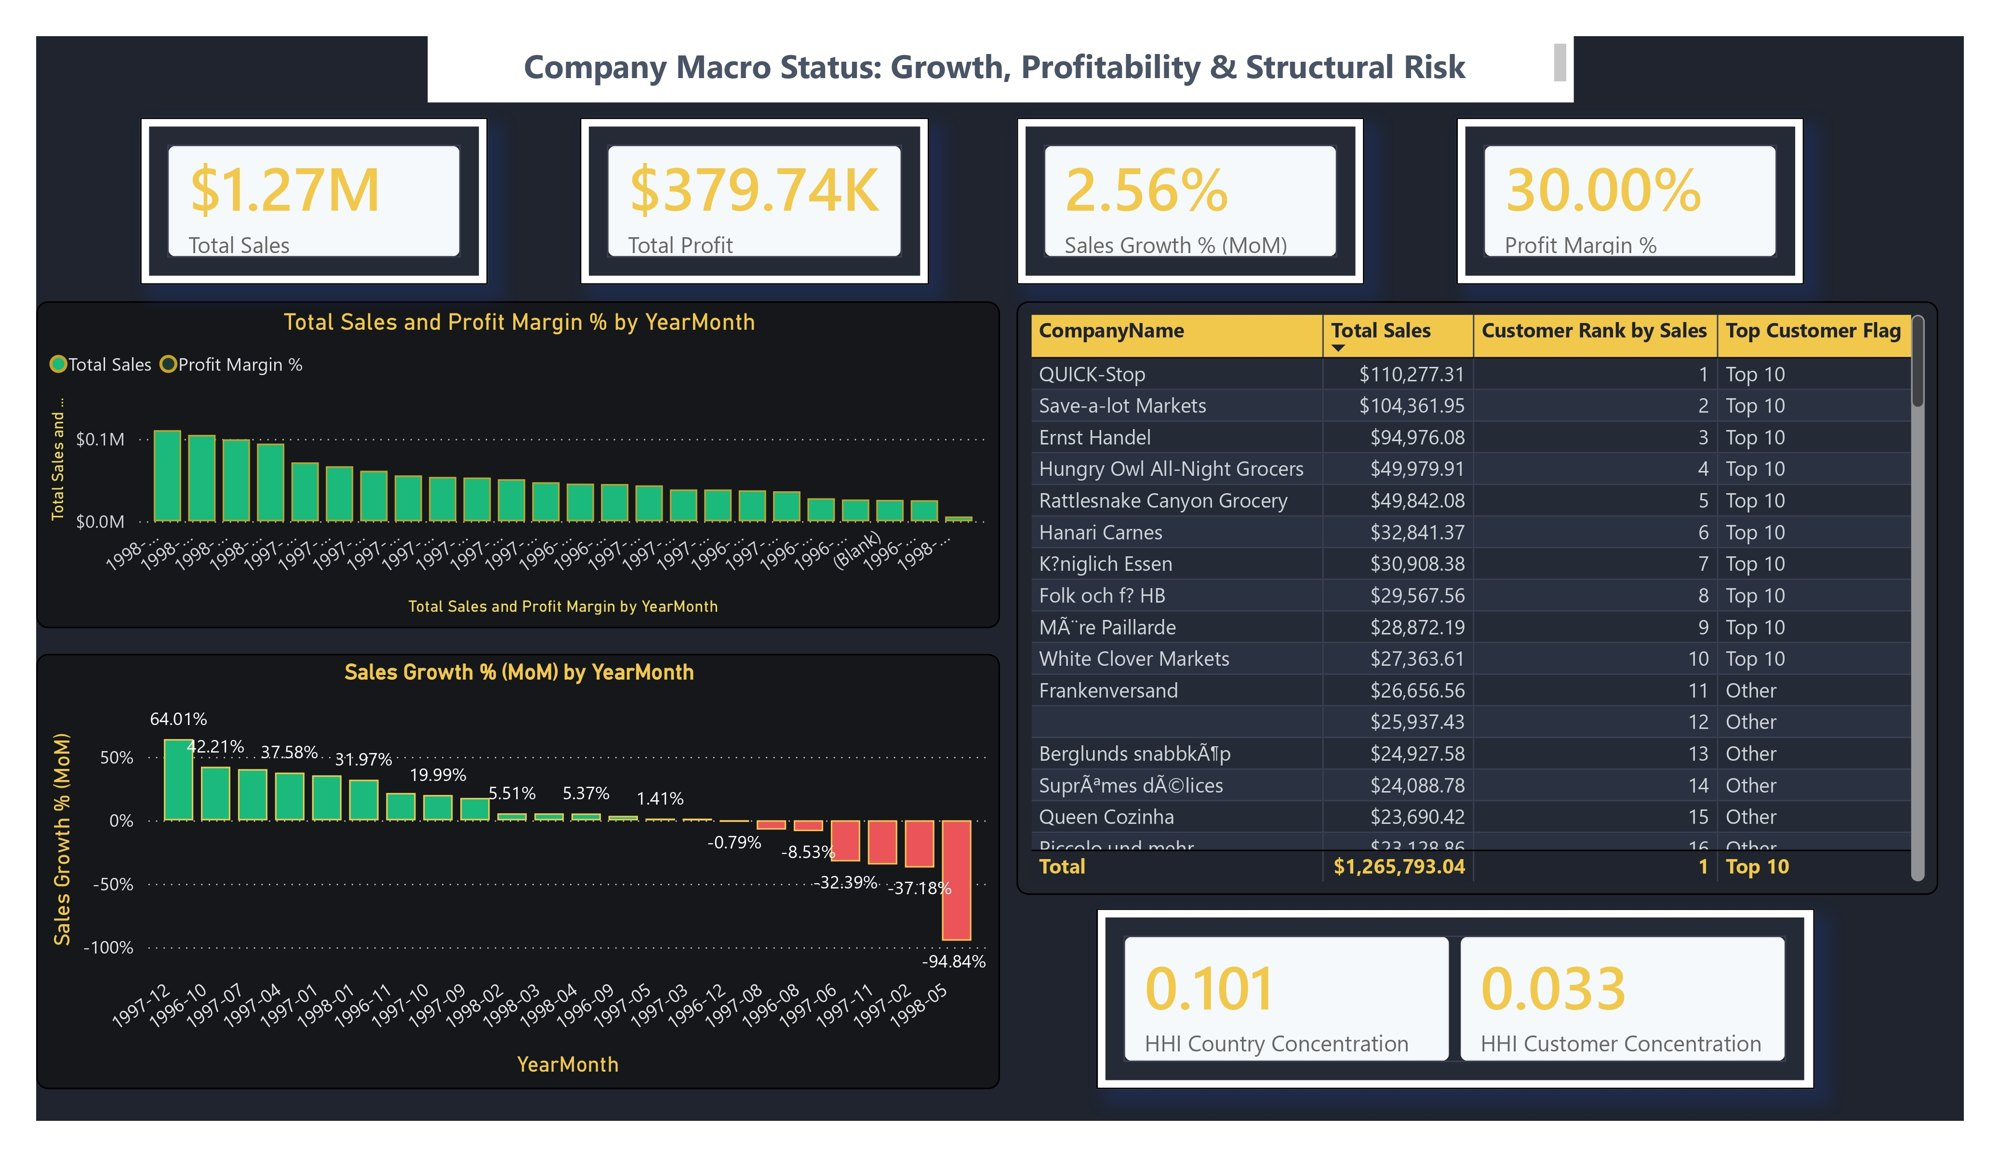

The page's visual inventory and layout, read from the dashboard file:
{"tool":"powerbi","page":{"name":"Company Overview_01","canvas":[1280,720],"ordinal":0},"visuals":[{"type":"textbox","box":[260,0,761.2,43.8],"z":0},{"type":"cardVisual","fields":{"Data":["_Measures.Total Profit"]},"box":[361.2,53.8,231.2,111.2],"z":1000},{"type":"columnChart","fields":{"Category":["DimDate.YearMonth"],"Y":["_Measures.Sales Growth % (MoM)"]},"box":[0,410,640,288.8],"z":2000},{"type":"lineStackedColumnComboChart","fields":{"Category":["DimDate.YearMonth"],"Y":["_Measures.Total Sales","_Measures.Profit Margin %"]},"box":[0,176.2,640,216.2],"z":3000},{"type":"tableEx","fields":{"Values":["DimCustomer.CompanyName","_Measures.Total Sales","_Measures.Customer Rank by Sales","_Measures.Top Customer Flag"]},"box":[651.2,176.2,611.2,393.8],"z":4000},{"type":"cardVisual","fields":{"Data":["_Measures.Total Sales"]},"box":[68.8,53.8,231,111.2],"z":5000},{"type":"cardVisual","fields":{"Data":["_Measures.Sales Growth % (MoM)"]},"box":[651.2,53.8,231,111.2],"z":6000},{"type":"cardVisual","fields":{"Data":["_Measures.Profit Margin %"]},"box":[942.5,53.8,231,111.2],"z":7000},{"type":"cardVisual","fields":{"Data":["_Measures.HHI Country Concentration","_Measures.HHI Customer Concentration"]},"box":[704.3,578.6,477.1,120],"z":8000}]}

Visuals, with their boxes in screenshot pixels (x1, y1, x2, y2), scaled from the page's 1280x720 canvas onto the 2000x1157 screenshot:
textbox: <region>406, 0, 1596, 70</region>
cardVisual - _Measures.Total Profit: <region>564, 86, 926, 265</region>
columnChart - DimDate.YearMonth x _Measures.Sales Growth % (MoM): <region>0, 659, 1000, 1123</region>
lineStackedColumnComboChart - DimDate.YearMonth x _Measures.Total Sales: <region>0, 283, 1000, 631</region>
tableEx - DimCustomer.CompanyName x _Measures.Total Sales: <region>1018, 283, 1973, 916</region>
cardVisual - _Measures.Total Sales: <region>108, 86, 468, 265</region>
cardVisual - _Measures.Sales Growth % (MoM): <region>1018, 86, 1378, 265</region>
cardVisual - _Measures.Profit Margin %: <region>1473, 86, 1834, 265</region>
cardVisual - _Measures.HHI Country Concentration x _Measures.HHI Customer Concentration: <region>1100, 930, 1846, 1123</region>
